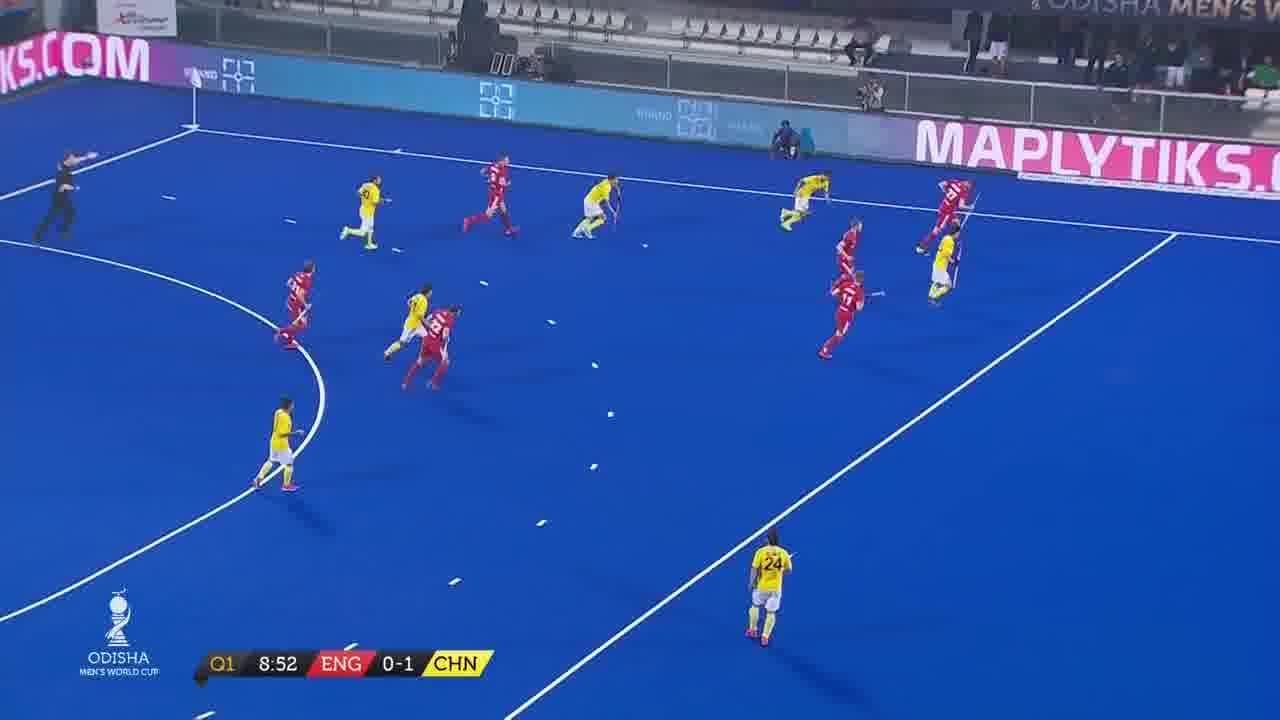ball: (641, 243, 652, 248)
